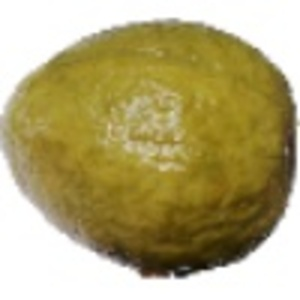goiaba: (6, 12, 295, 279)
